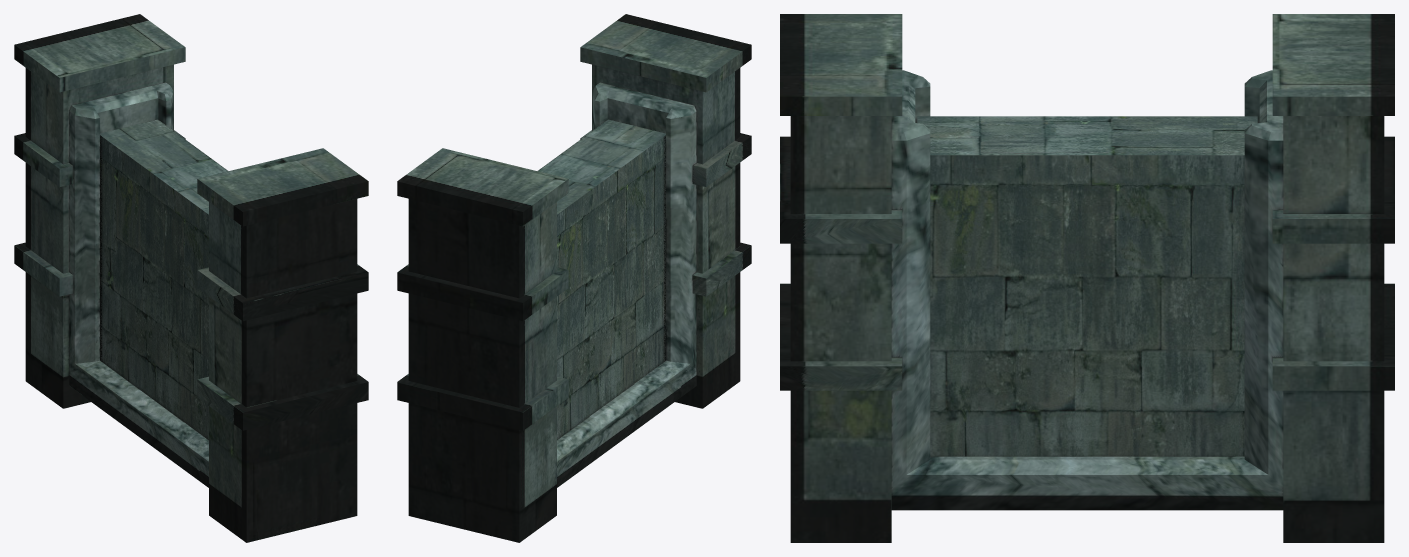
File: door.fbx
3 renders of one model, left to right at view 1: azimuth 30°, elevation 25°; view 2: azimuth 150°, elevation 25°; view 3: azimuth 270°, elevation 25°, orthographic. The views are drawn at different scales.
Parts seen in each view (by area): view 1: Cube.041; view 2: Cube.041; view 3: Cube.041.
Boxes of the visible parts, box(x1,y1,x2,y2) form: Cube.041: box(14, 14, 368, 542); Cube.041: box(397, 14, 751, 542); Cube.041: box(780, 14, 1394, 542).
Size of the model in its own units: 139 by 437 by 354.
1 material, 1 textured.
